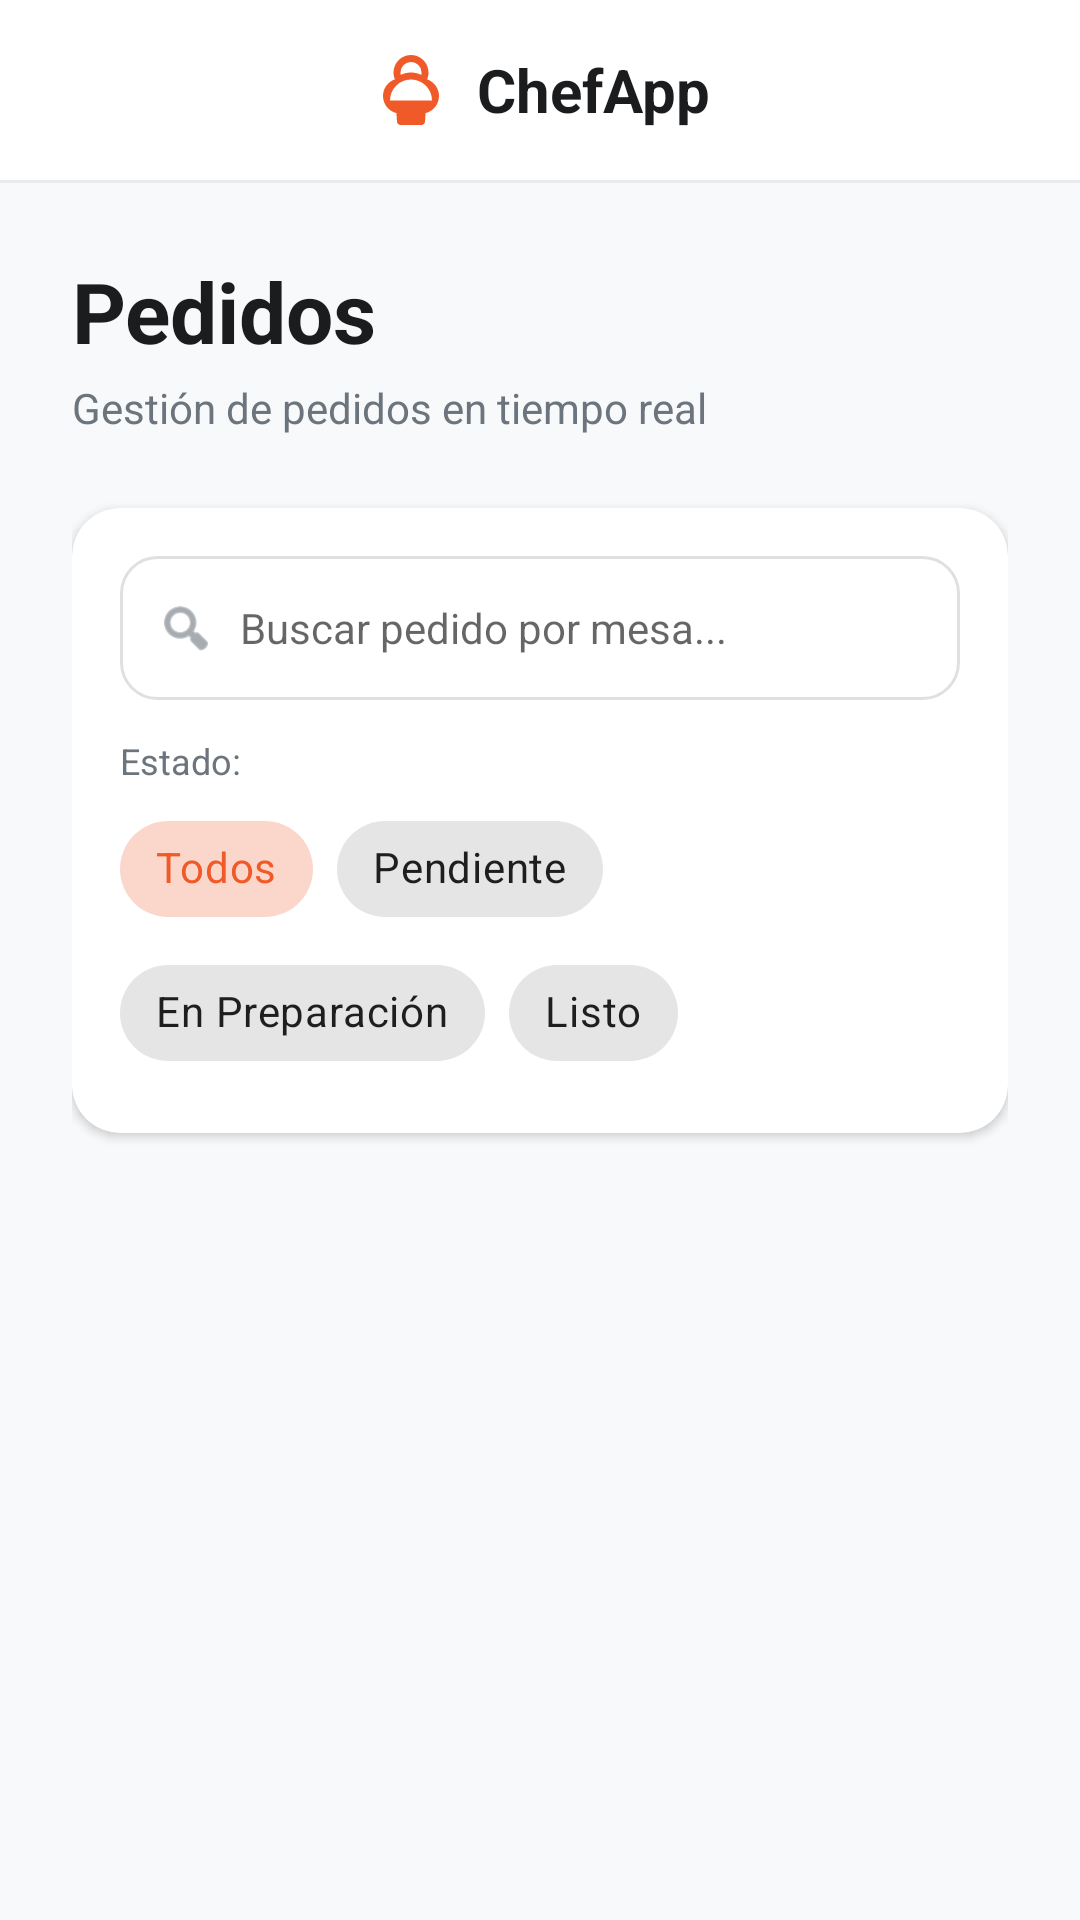

Screen size 1080w x 1920h. Icon name, then its center in pixels as [x,y]:
chef hat: [411,90]
search: [186,628]
